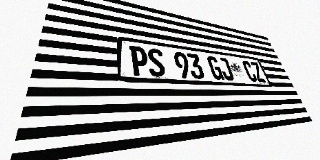3: (186, 53, 205, 79)
9: (173, 51, 192, 78)
C: (241, 60, 258, 82)
G: (206, 56, 225, 80)
J: (217, 57, 235, 81)
P: (129, 45, 149, 76)
S: (147, 48, 166, 77)
Z: (250, 61, 266, 82)
